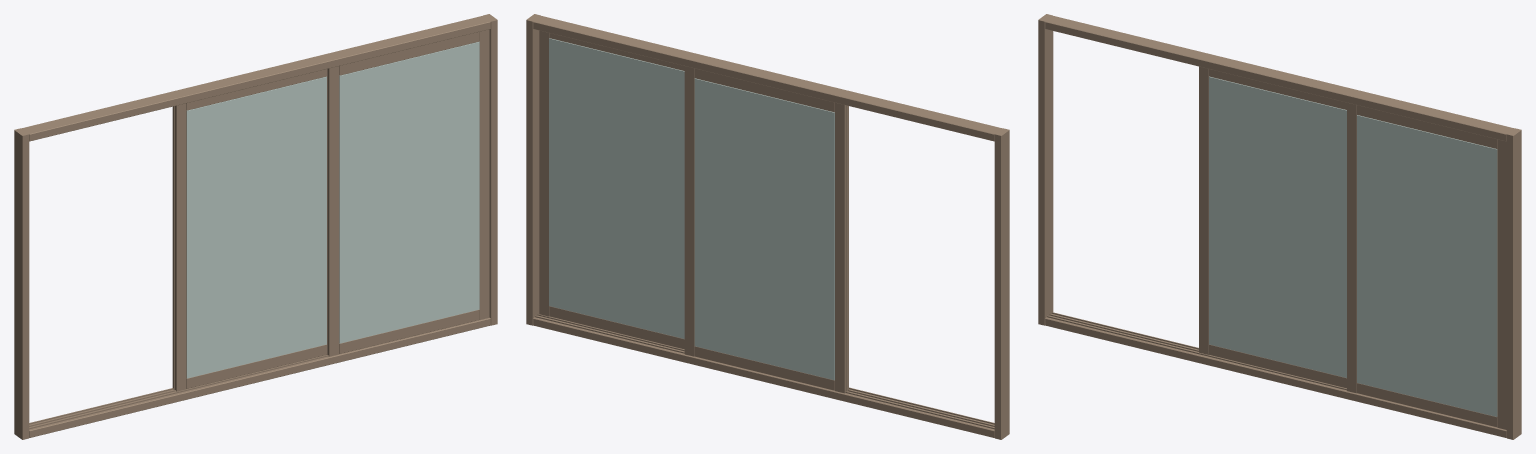
File: co-S110P-3-quartz-1019-ouvert.glb
3 views of the same model, side by side, from view 1: azimuth 30°, elevation 25°; view 2: azimuth 150°, elevation 25°; view 3: azimuth 330°, elevation 25° (orthographic).
Parts seen in each view (by area): view 1: verre, structure; view 2: verre, structure; view 3: verre, structure.
Part boxes in pixels (x1,y1,x2,y2): verre: (186, 41, 479, 378); structure: (14, 14, 497, 439); verre: (549, 38, 834, 380); structure: (526, 14, 1009, 439); verre: (1209, 76, 1497, 416); structure: (1038, 14, 1521, 439).
Size of the model in its own units: 3.6 by 2.2 by 0.11.
